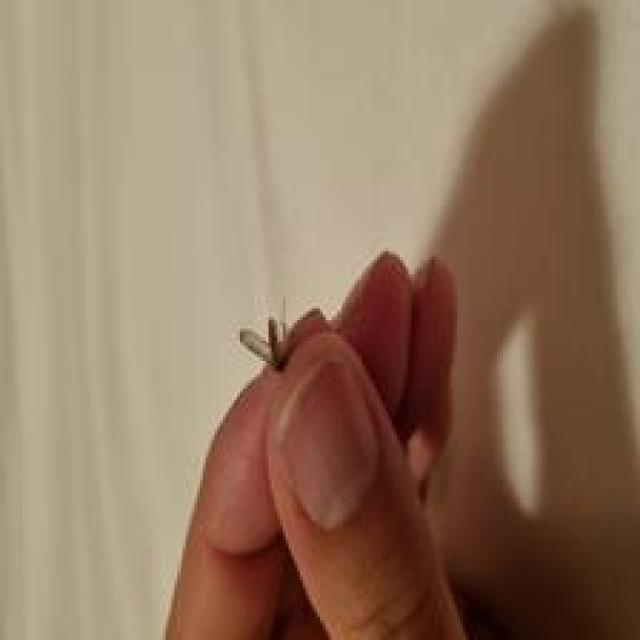Culex: (237, 296, 292, 373)
